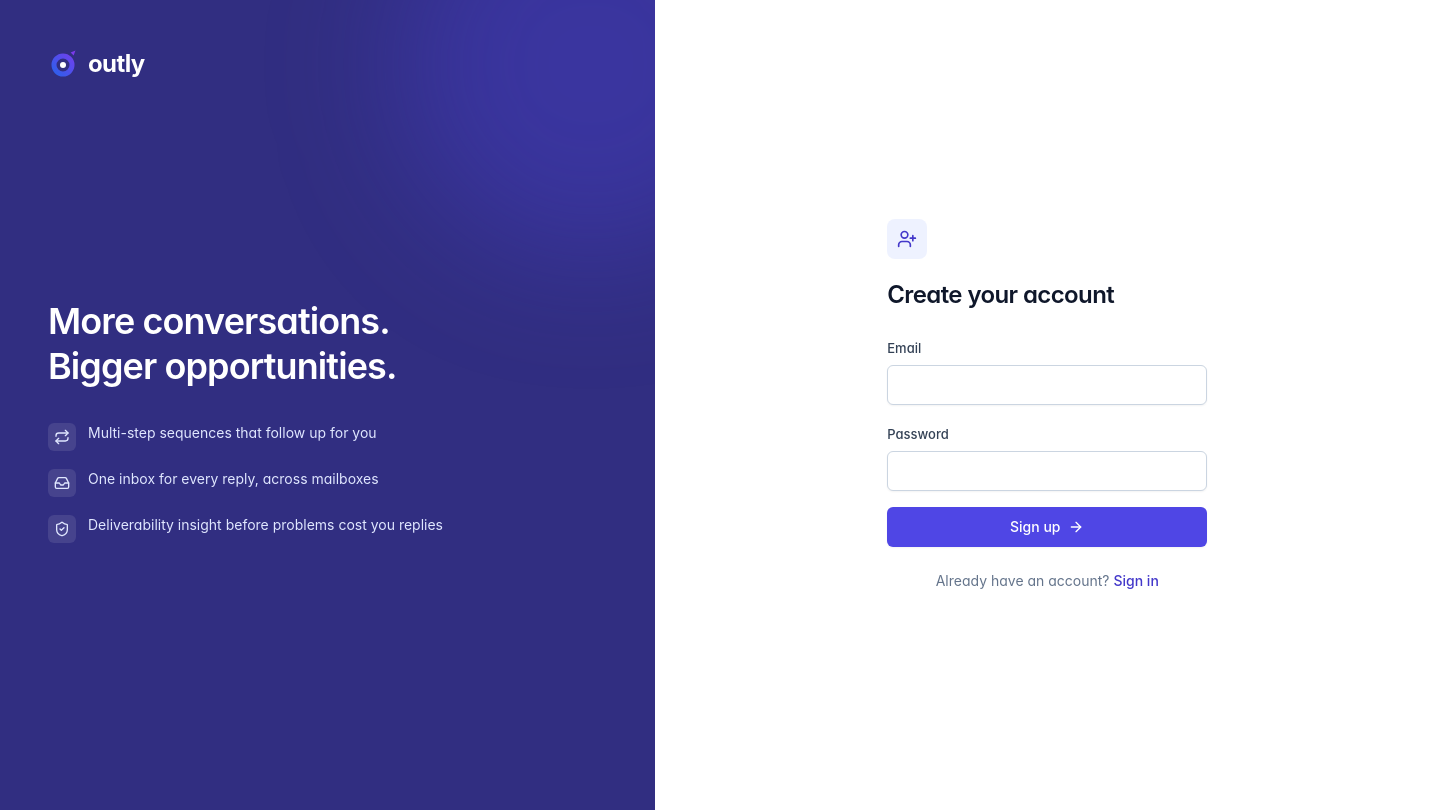
Scenario: SignupPage › shows a generic error banner on provider failure without leaking details
Type "user@example.com" into the field labelled "Email" at (1047, 385), box [887, 365, 1207, 405]
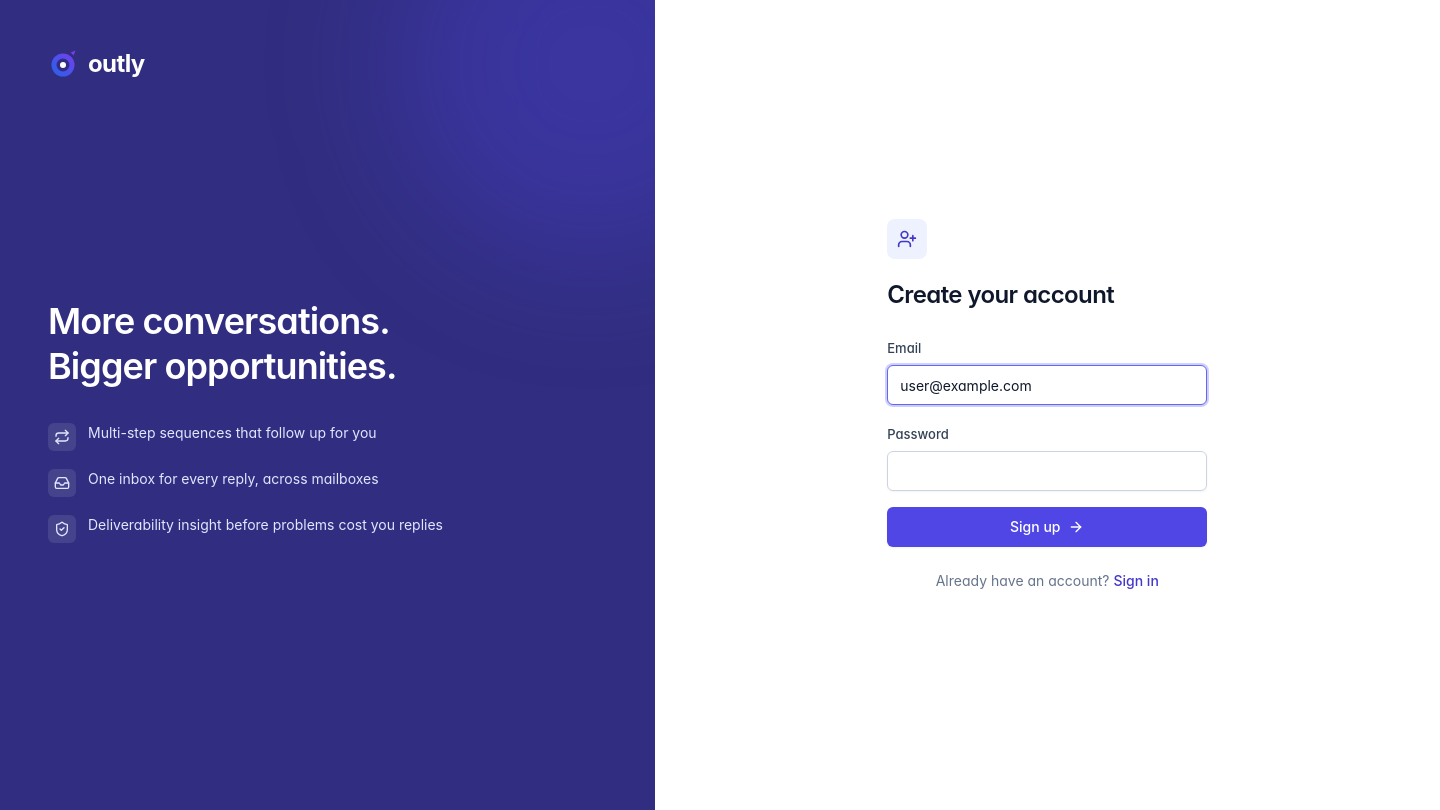
Type "longenoughpassword" into the password field labelled "Password" at (1047, 471), box [887, 451, 1207, 491]
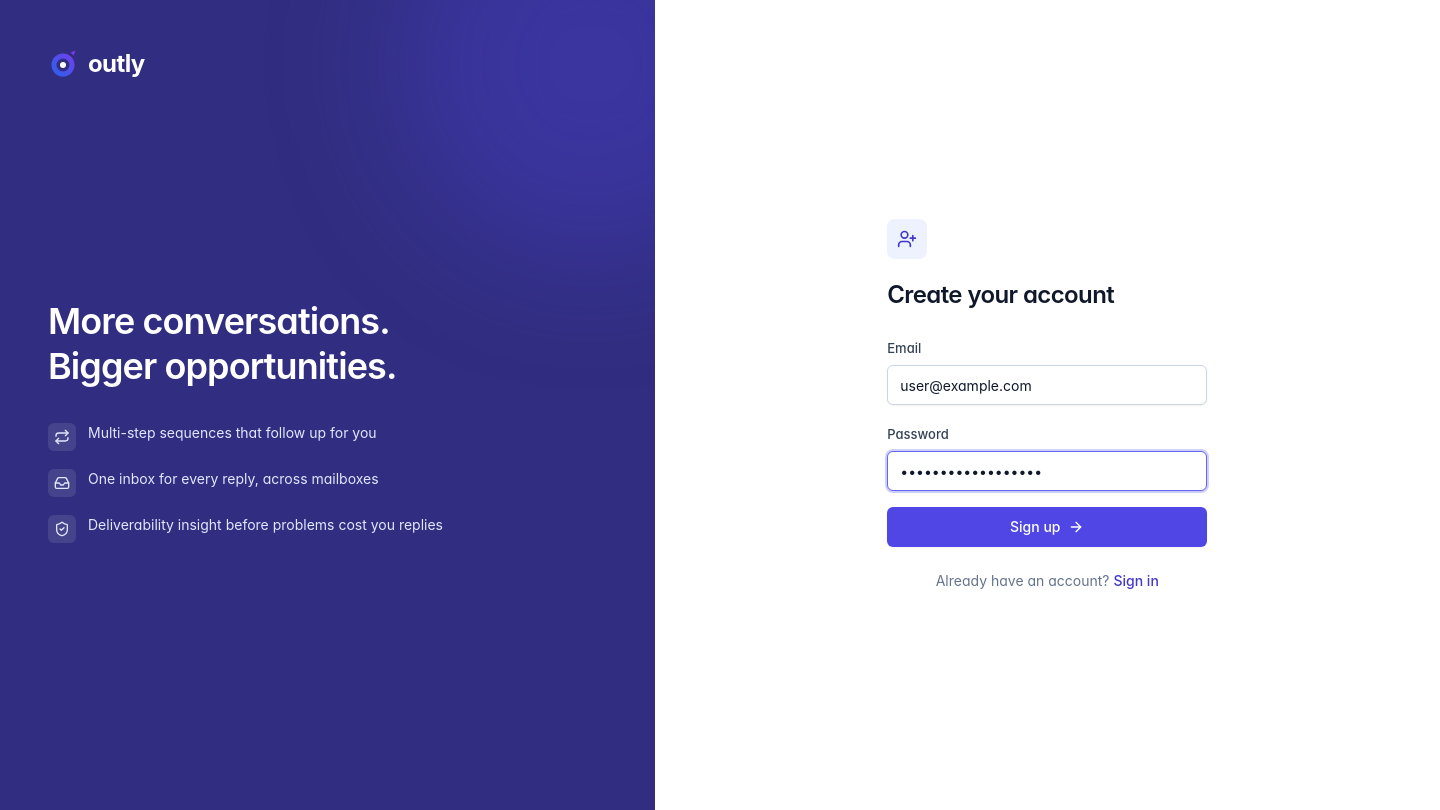
Click the button "Sign up" at (1047, 527), box [887, 507, 1207, 547]
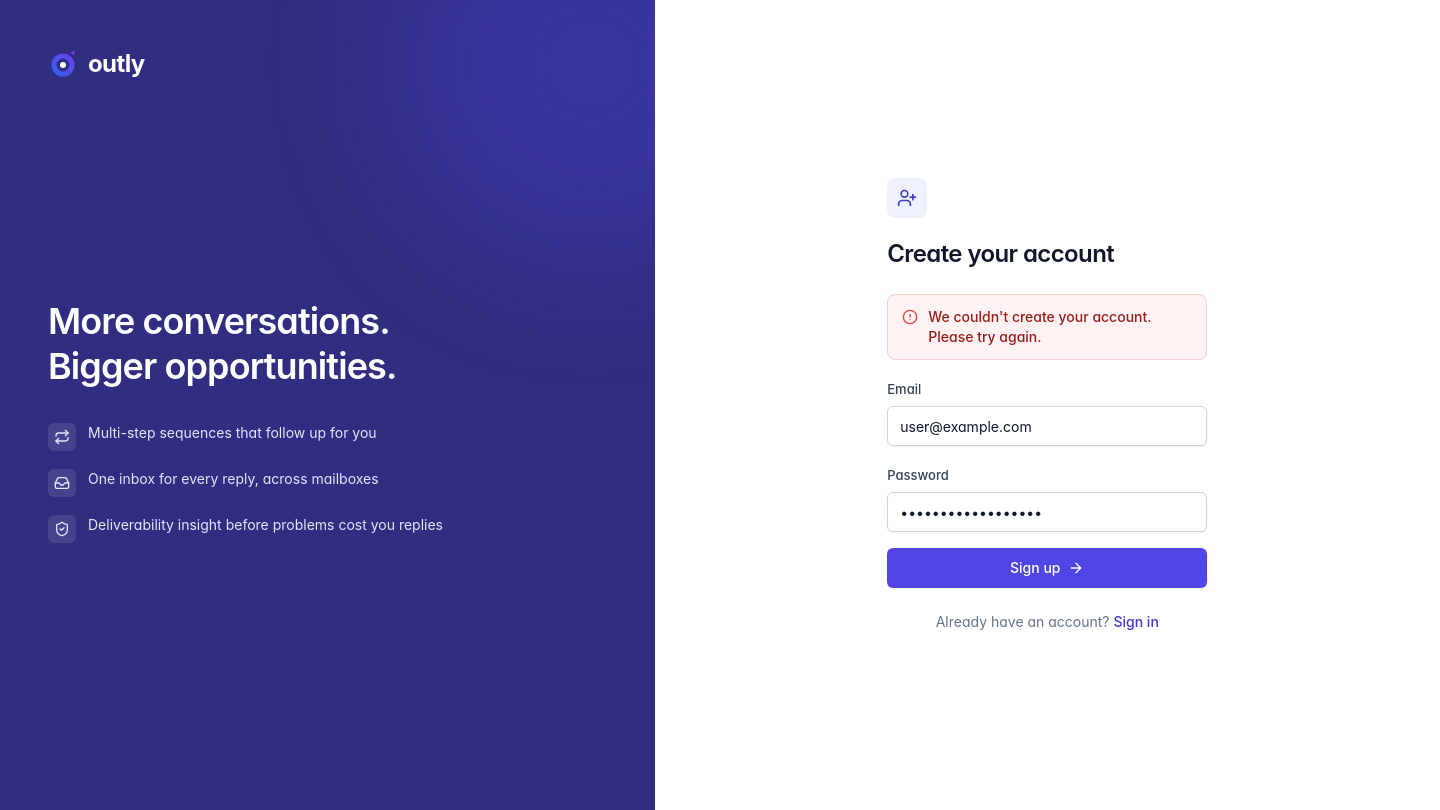
Expected: the text "We couldn't create your account. Please try again." is shown, [928, 308, 1151, 345]
